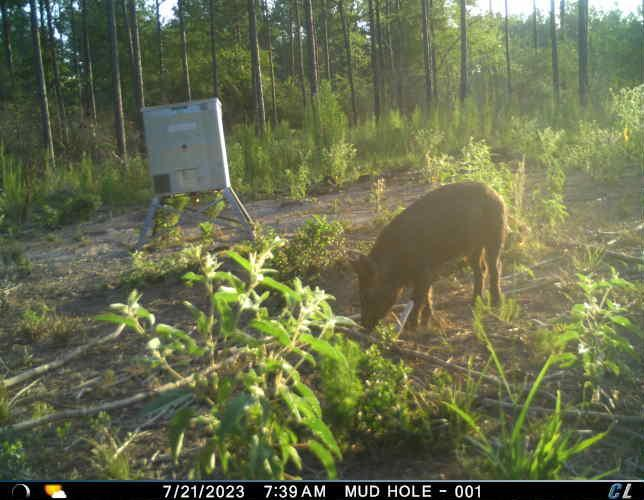Hog: (350, 177, 512, 336)
